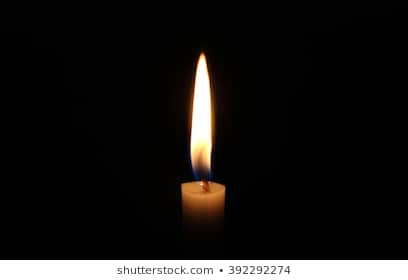Fire: (183, 53, 217, 175)
